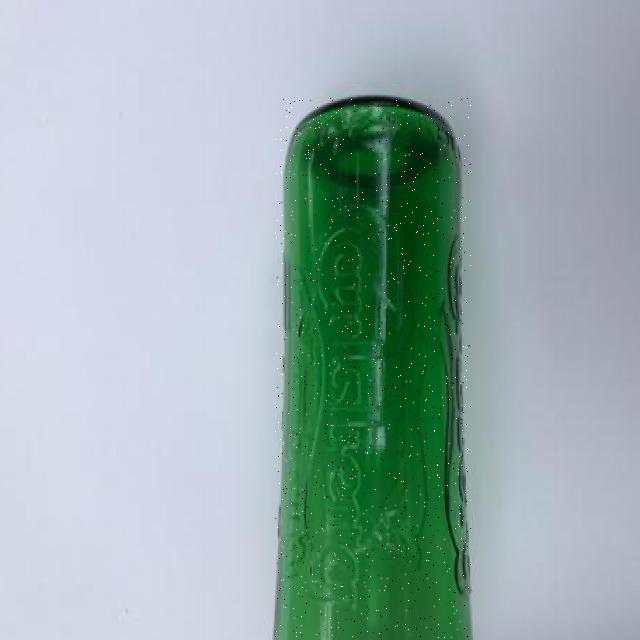glass: (276, 97, 471, 640)
